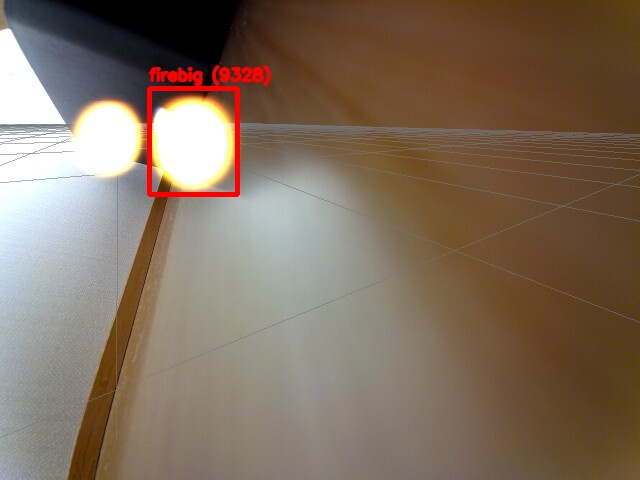firebig: (149, 88, 237, 194)
